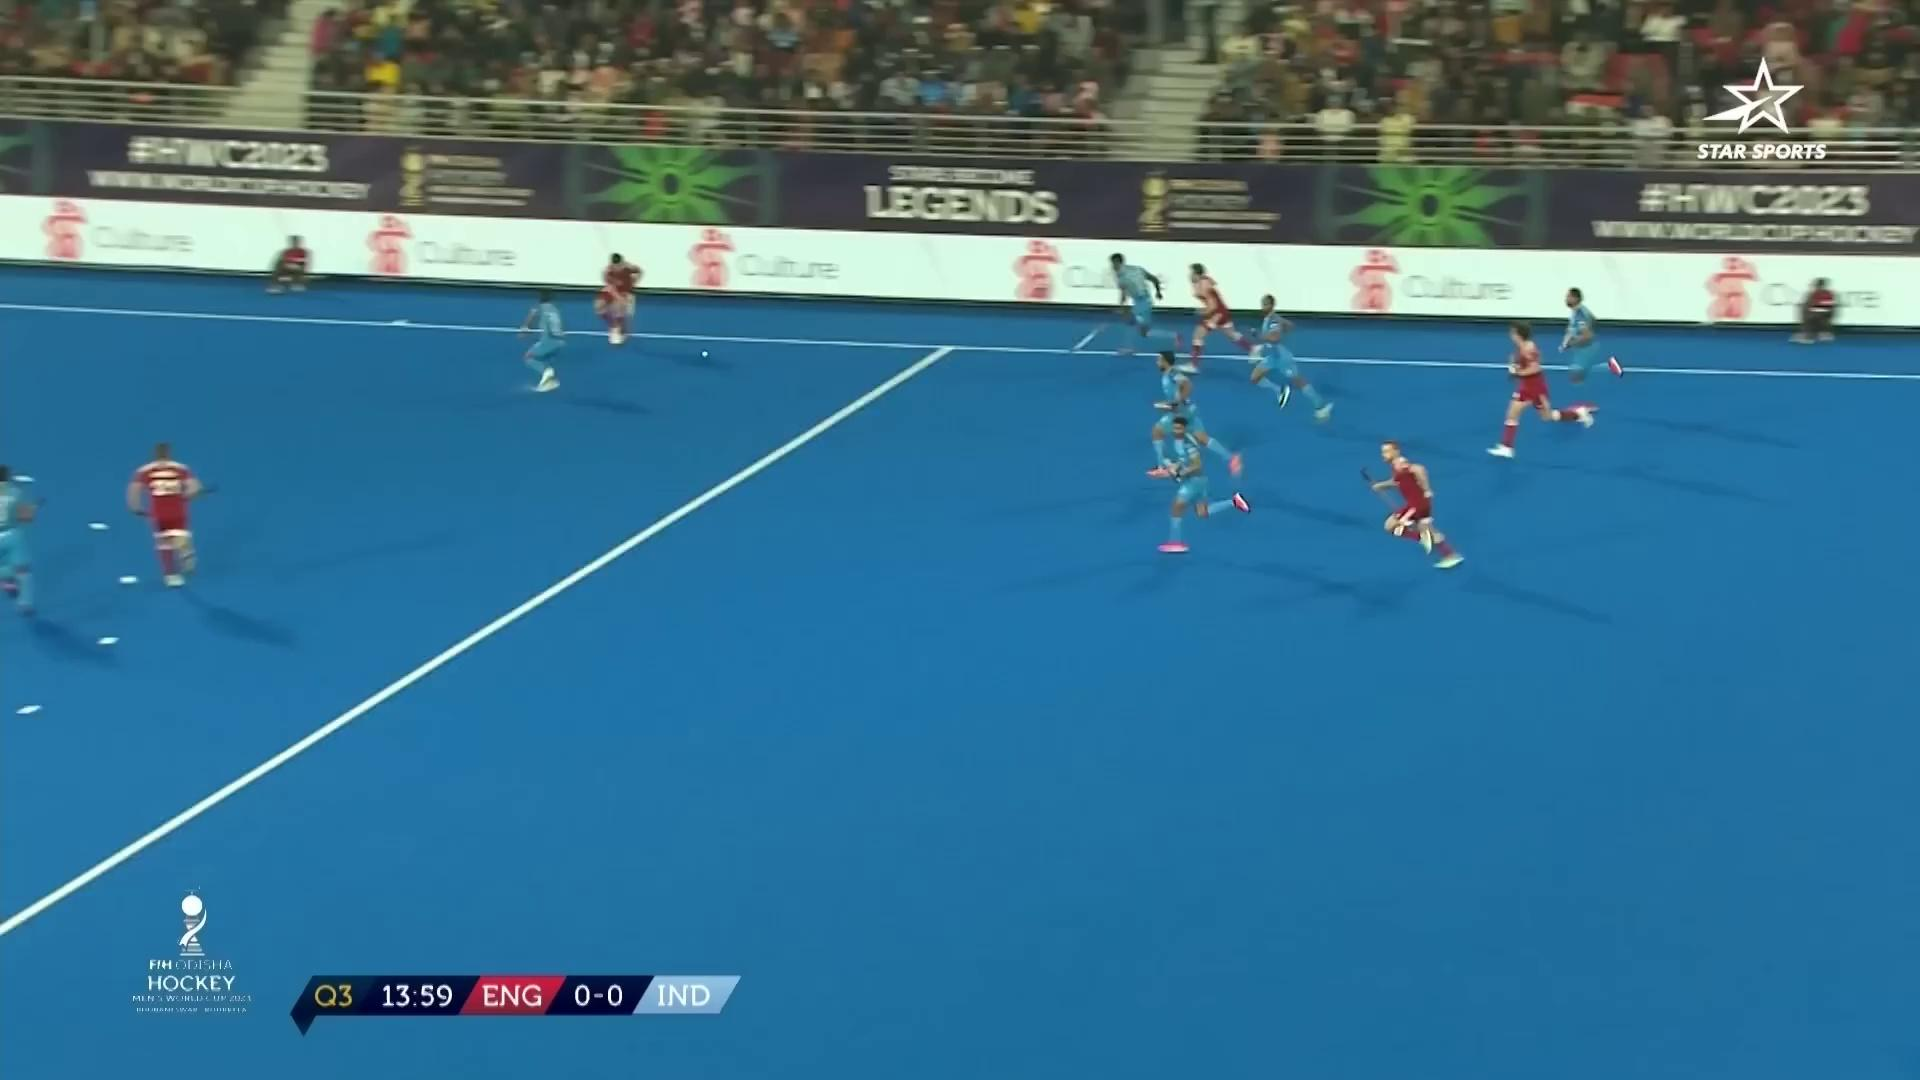ball: (698, 344, 715, 367)
